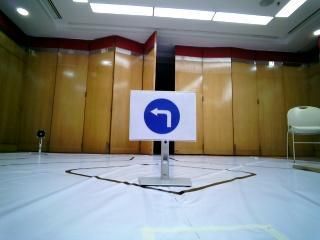left: (133, 90, 196, 141)
